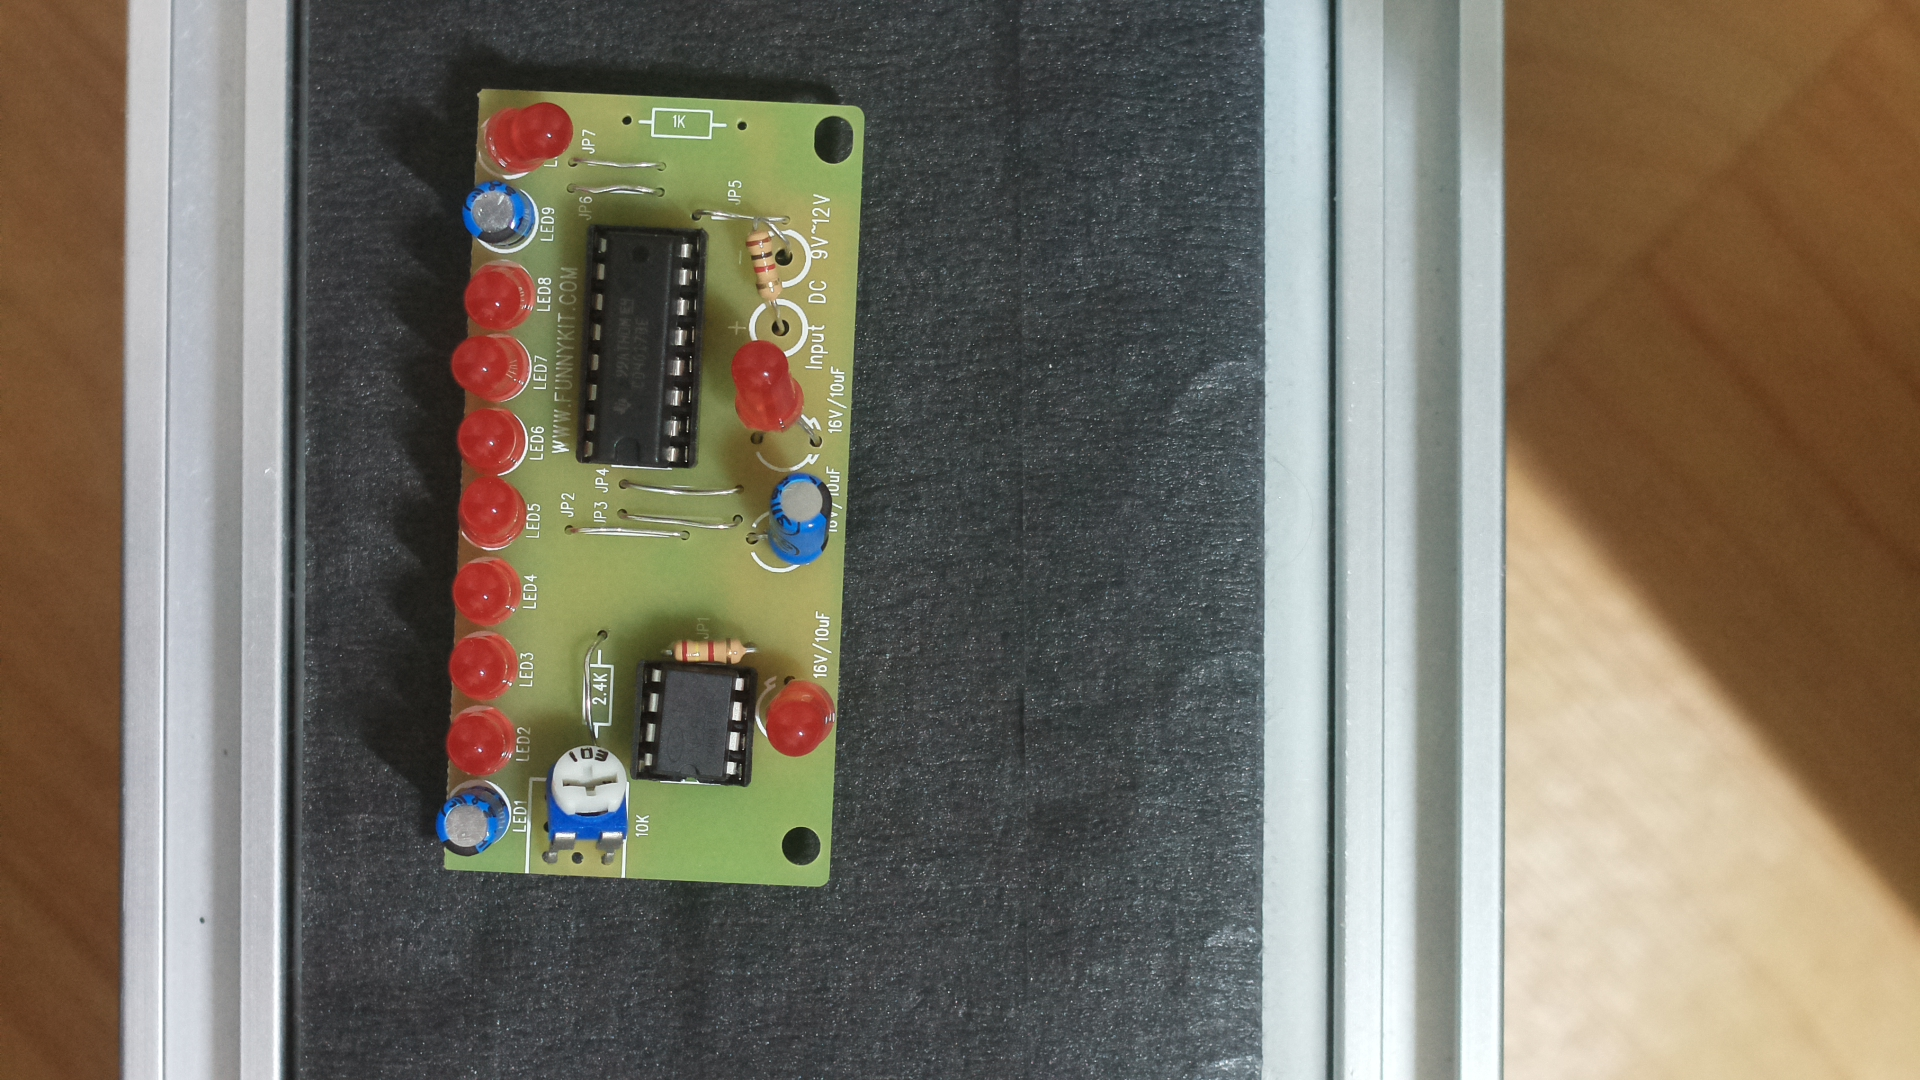B_Misordered: (434, 76, 876, 902)
